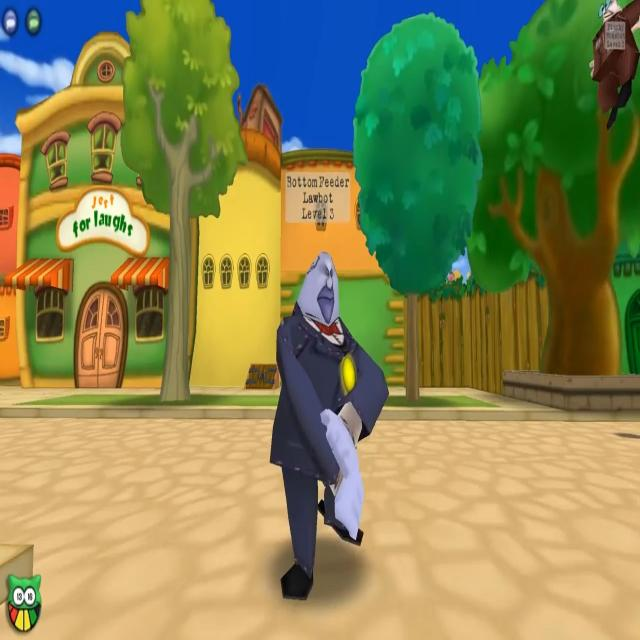bottomfeeder: (269, 167, 390, 608), (575, 0, 640, 137)
